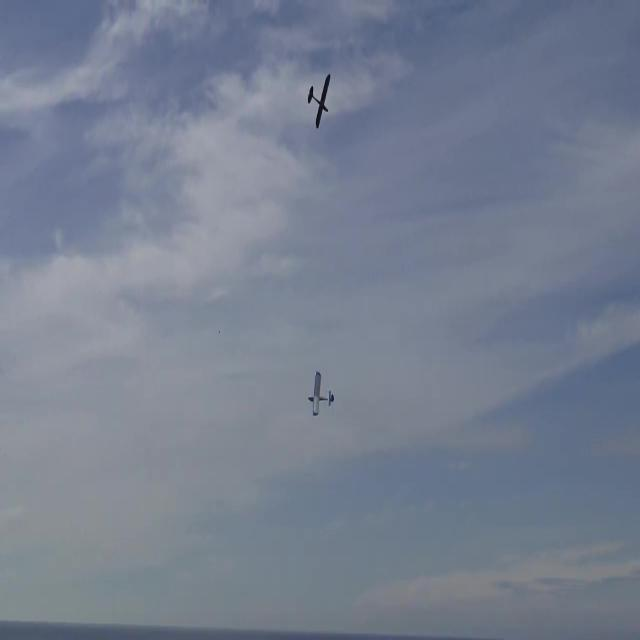iha: (308, 9, 331, 66), (309, 364, 334, 411)
